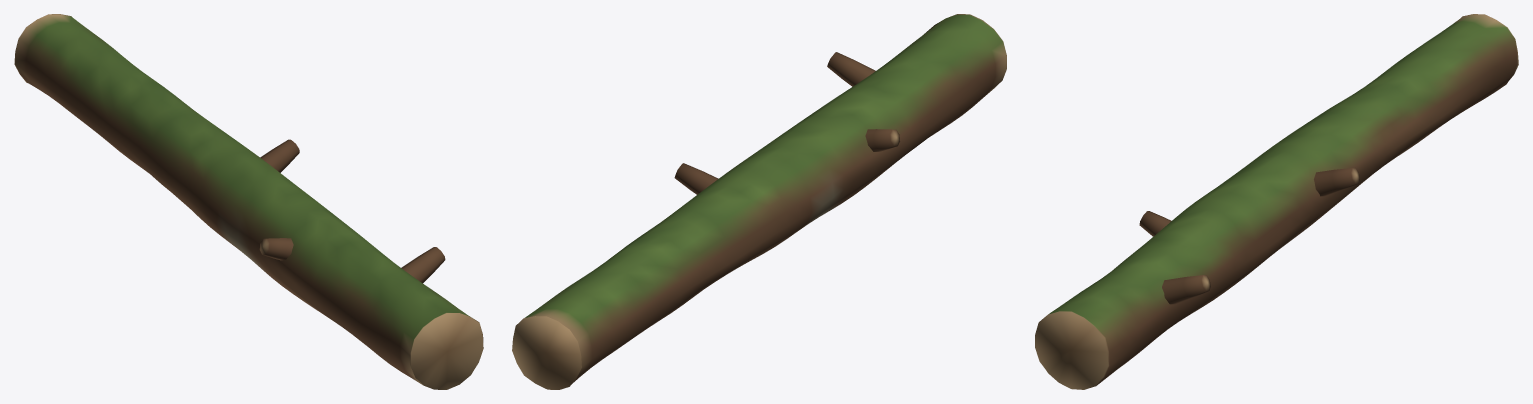
The model's file is Night_LogBridge.fbx.
3 views of the same model, side by side, from view 1: azimuth 30°, elevation 25°; view 2: azimuth 150°, elevation 25°; view 3: azimuth 330°, elevation 25° (orthographic). The views are drawn at different scales.
Visible parts, largest first — view 1: Night_LogBridge; view 2: Night_LogBridge; view 3: Night_LogBridge.
Part boxes in pixels (x1,y1,x2,y2): Night_LogBridge: (14, 14, 483, 389); Night_LogBridge: (512, 14, 1006, 389); Night_LogBridge: (1035, 14, 1518, 389).
Size of the model in its own units: 4.12 by 2.6 by 23.12.
